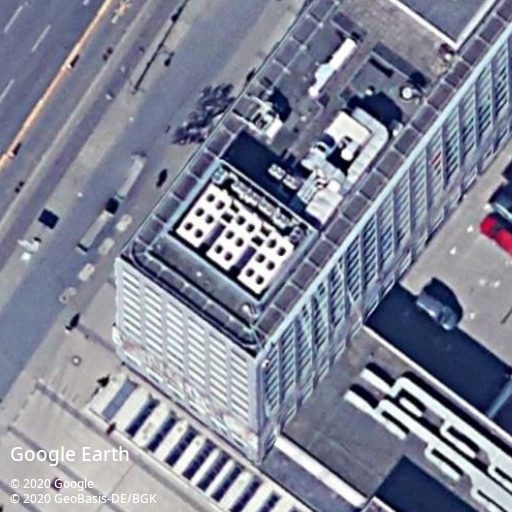Chiller: (236, 231, 295, 295), (205, 208, 263, 271), (176, 184, 233, 248)
